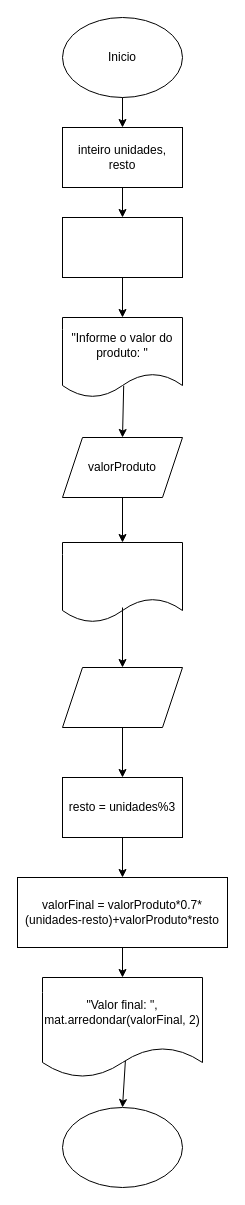
Some shapes in this 245 by 1205 pixel diagram are drawn without their labels. Here are the shapes that lost their labels. From the top down, the centre of each, then its label:
point 122,247: real valorProduto, valorFinal
point 122,582: "Informe a quantidade comprada: "
point 122,697: unidades
point 122,1147: Fim
